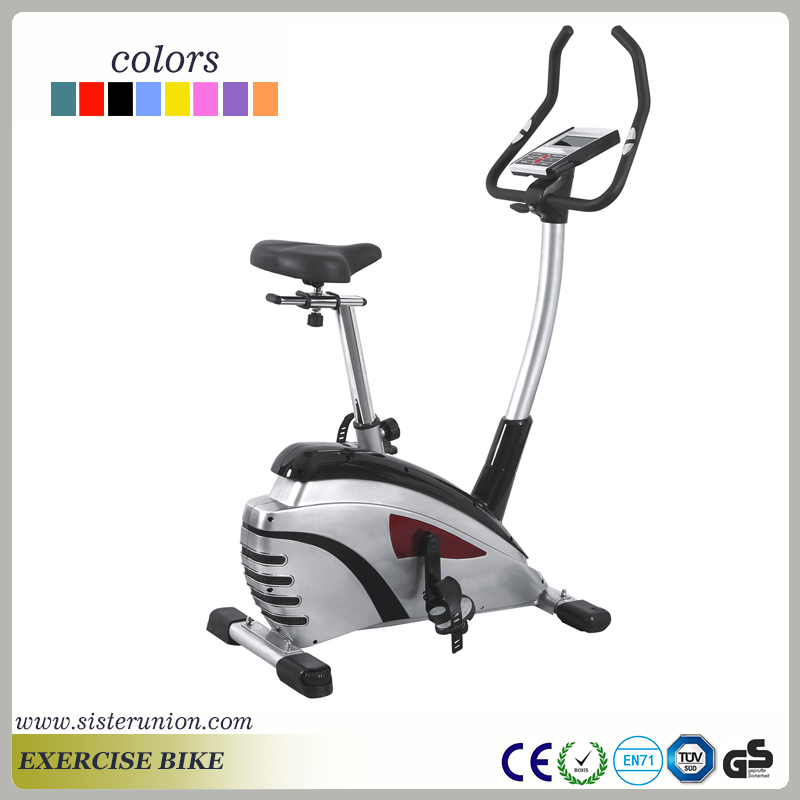gym_bike: (183, 25, 664, 695)
